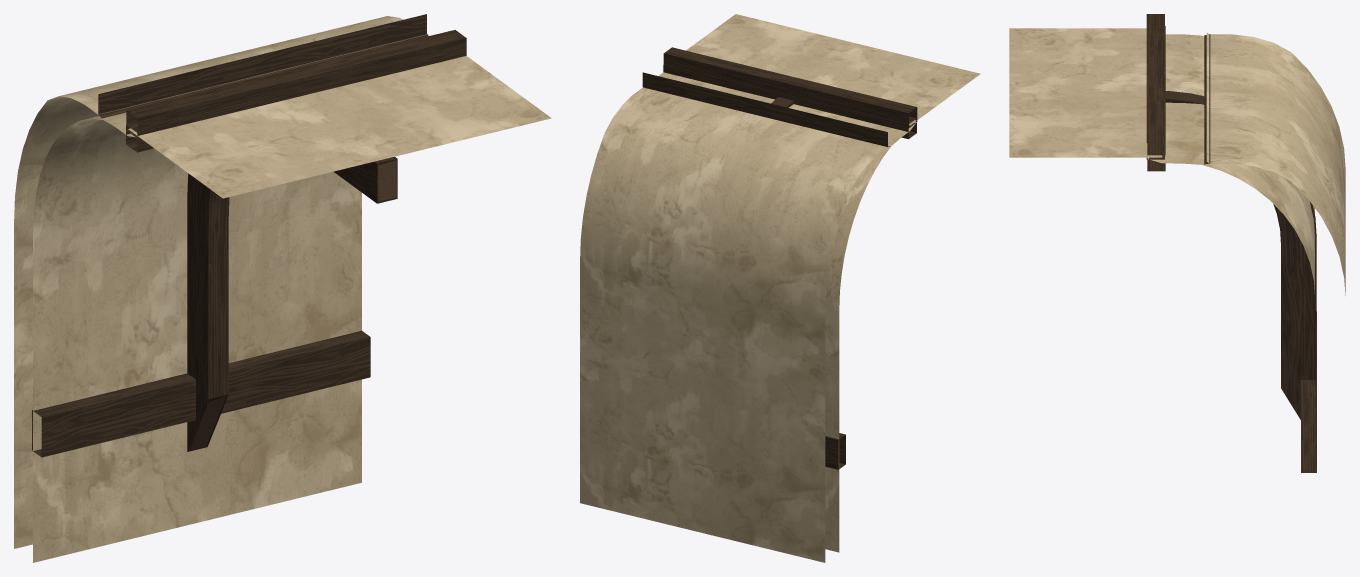
The model's file is Overhang_Plaster_Long.gltf.
3 renders of one model, left to right at view 1: azimuth 30°, elevation 25°; view 2: azimuth 150°, elevation 25°; view 3: azimuth 270°, elevation 25°, orthographic. The views are drawn at different scales.
Visible parts, largest first — view 1: Overhang_Plaster_Long; view 2: Overhang_Plaster_Long; view 3: Overhang_Plaster_Long.
Boxes of the visible parts, x1=… form: Overhang_Plaster_Long: x1=14, y1=14, x2=551, y2=562; Overhang_Plaster_Long: x1=580, y1=14, x2=980, y2=562; Overhang_Plaster_Long: x1=1009, y1=14, x2=1345, y2=472.
Bounding box in the file's own units: 2 × 3.03 × 2.2.
2 materials, 2 textured.
